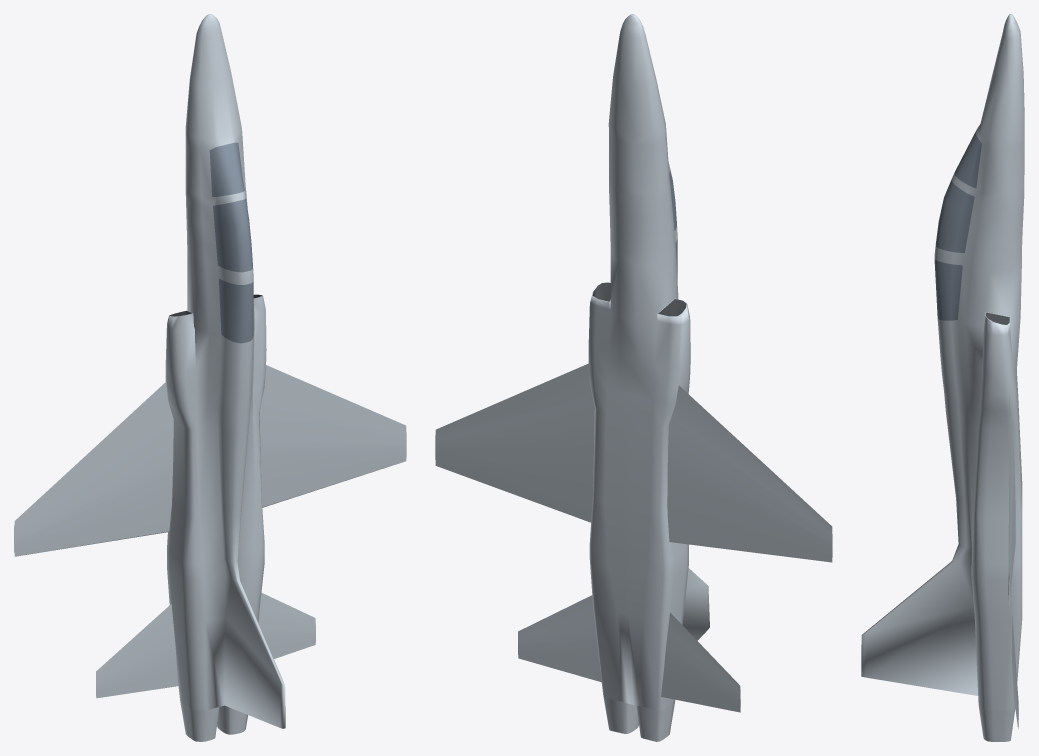
The picture shows the model from 3 angles, left to right: view 1: azimuth 30°, elevation 25°; view 2: azimuth 150°, elevation 25°; view 3: azimuth 270°, elevation 25°; orthographic projection.
Visible parts, largest first — view 1: db_t38_p13928_Geometry_1.001, db_t38_p13928_Geometry_0.001, db_t38_p13746_Geometry_0.001; view 2: db_t38_p13928_Geometry_1.001, db_t38_p13928_Geometry_0.001; view 3: db_t38_p13928_Geometry_1.001, db_t38_p13746_Geometry_0.001, db_t38_p13928_Geometry_0.001.
Boxes of the visible parts, box(x1,y1,x2,y2) form: db_t38_p13928_Geometry_1.001: box(14, 14, 406, 741); db_t38_p13928_Geometry_0.001: box(14, 294, 384, 698); db_t38_p13746_Geometry_0.001: box(209, 142, 253, 343); db_t38_p13928_Geometry_1.001: box(435, 14, 832, 741); db_t38_p13928_Geometry_0.001: box(437, 282, 832, 712); db_t38_p13928_Geometry_1.001: box(861, 14, 1024, 741); db_t38_p13746_Geometry_0.001: box(934, 131, 981, 320); db_t38_p13928_Geometry_0.001: box(985, 312, 1018, 728).
Bounding box in the file's own units: 8.12 × 14.13 × 2.93.
